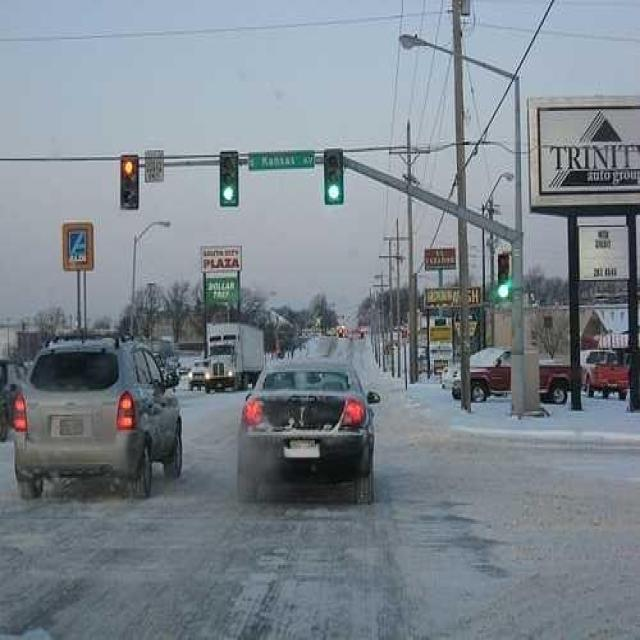Traffic Light -Green-: (324, 149, 346, 208), (220, 154, 240, 208)
Traffic Light -Red-: (120, 154, 140, 212)
Traffic Light -Yellow-: (120, 155, 140, 212)
